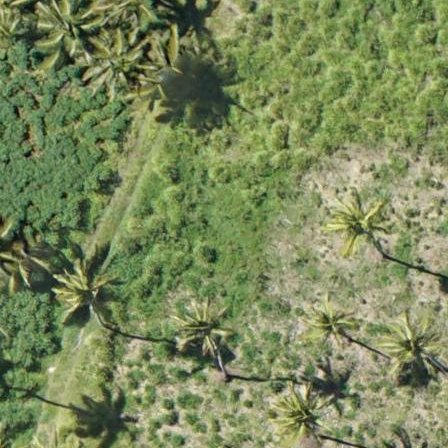palm_tree: (167, 297, 238, 369), (56, 254, 125, 327), (319, 184, 393, 252), (266, 386, 334, 446), (382, 313, 442, 377), (87, 30, 147, 92), (37, 1, 95, 62), (300, 287, 357, 346)
